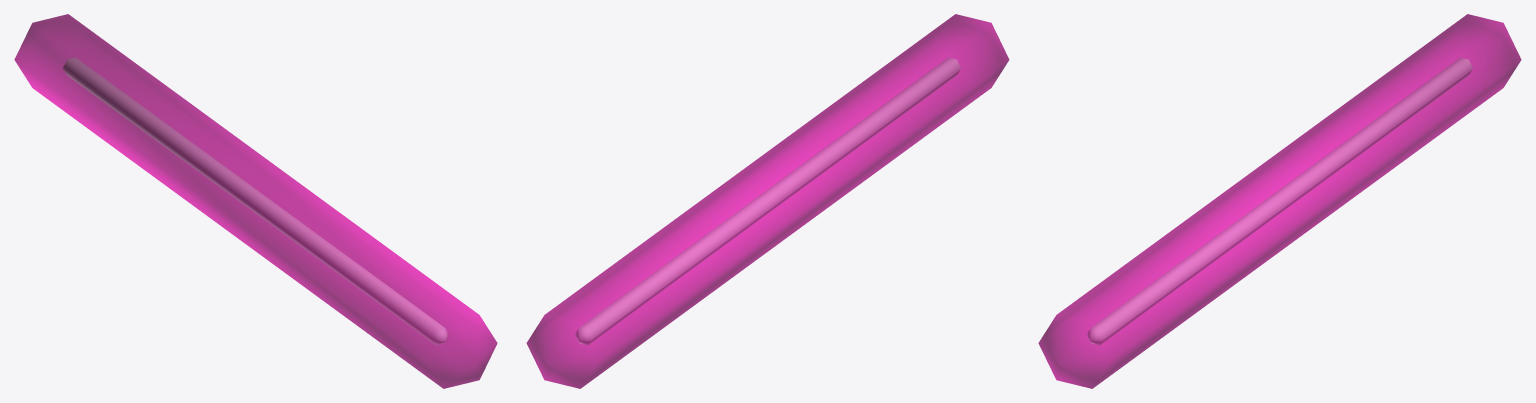
Rendered from hot_pink_turret_laser_model.fbx.
The picture shows the model from 3 angles, left to right: view 1: azimuth 30°, elevation 25°; view 2: azimuth 150°, elevation 25°; view 3: azimuth 330°, elevation 25°; orthographic projection.
Parts seen in each view (by area): view 1: glow, bolt; view 2: glow, bolt; view 3: glow, bolt.
Boxes of the visible parts, left/top/right/bottom form: glow: left=14, top=14, right=497, bottom=388; bolt: left=63, top=57, right=448, bottom=345; glow: left=526, top=14, right=1009, bottom=388; bolt: left=575, top=57, right=960, bottom=345; glow: left=1038, top=14, right=1521, bottom=388; bolt: left=1087, top=57, right=1472, bottom=345.
Bounding box in the file's own units: 7.56 × 6.55 × 80.08.
